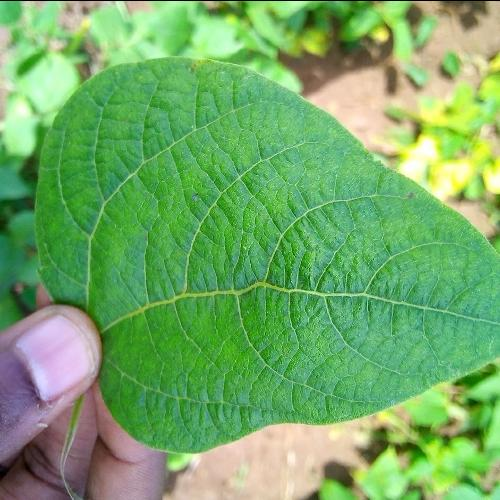embun tepung: (122, 190, 429, 381)
